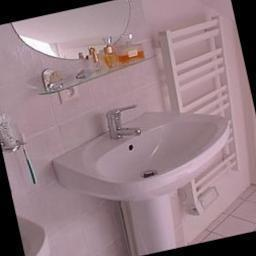Lavamanos: (39, 78, 254, 256)
